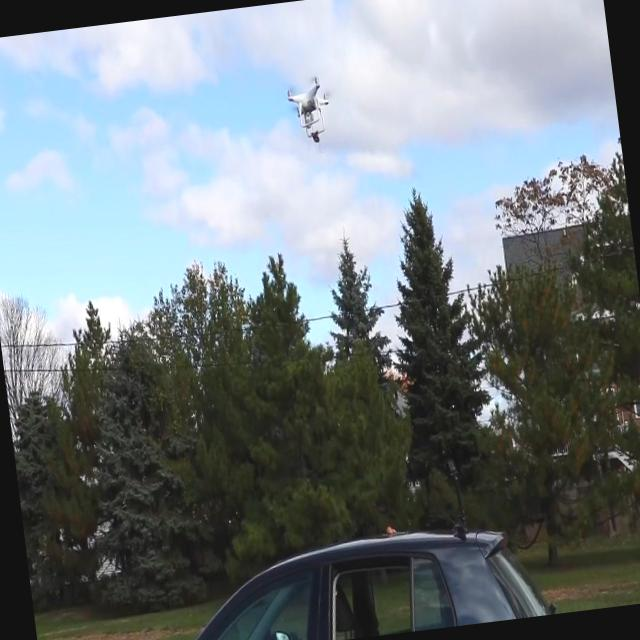drone: (282, 72, 336, 149)
